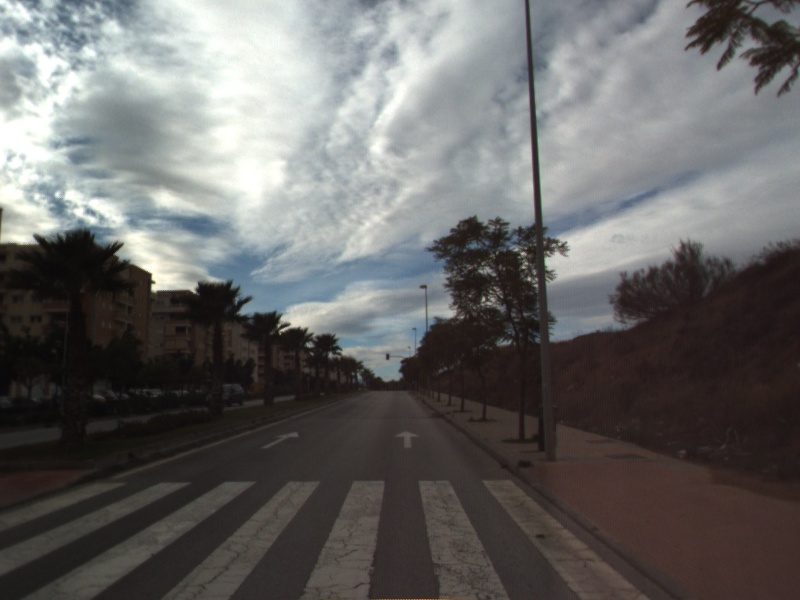STRAIGHT: (259, 430, 301, 450), (392, 428, 422, 450)
